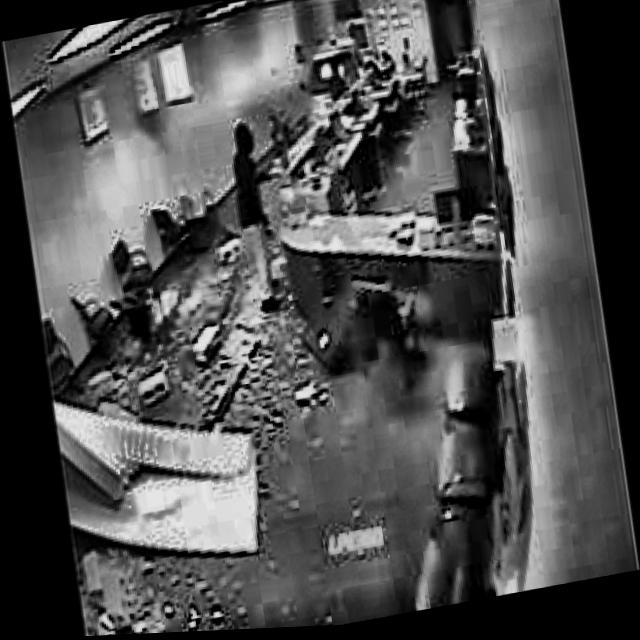burglary: (209, 105, 315, 340), (275, 17, 400, 151)
